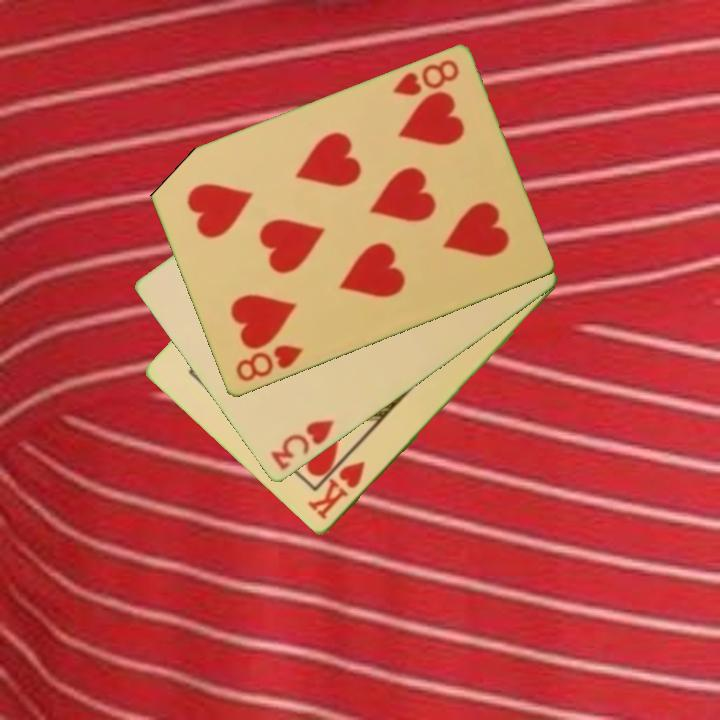3h: (267, 416, 337, 474)
8h: (232, 341, 306, 385), (388, 56, 462, 100)
Kh: (305, 458, 369, 523)
